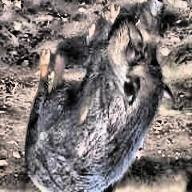boar: (19, 0, 173, 192)
